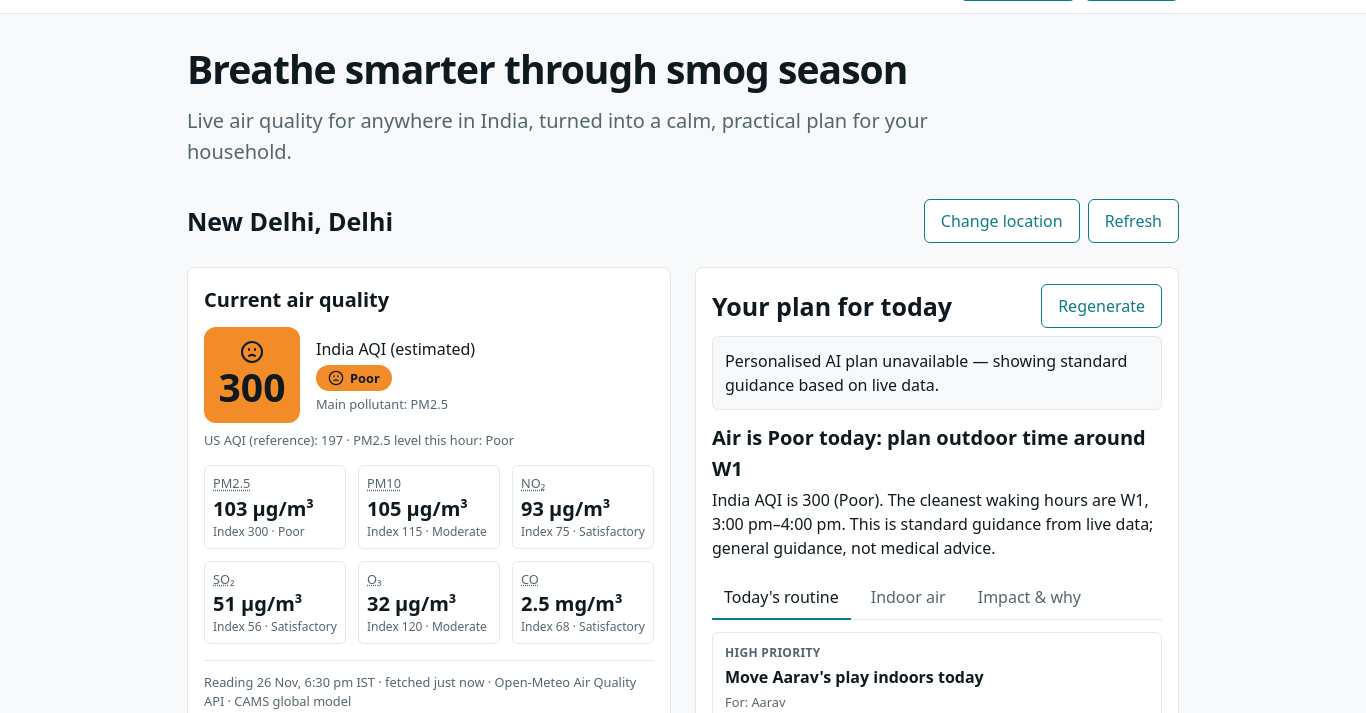
it: Dashboard failures › marks older data stale when a refresh fails
Click the button "Refresh": click(1133, 221) [1088,199,1179,243]
(page scrolled)
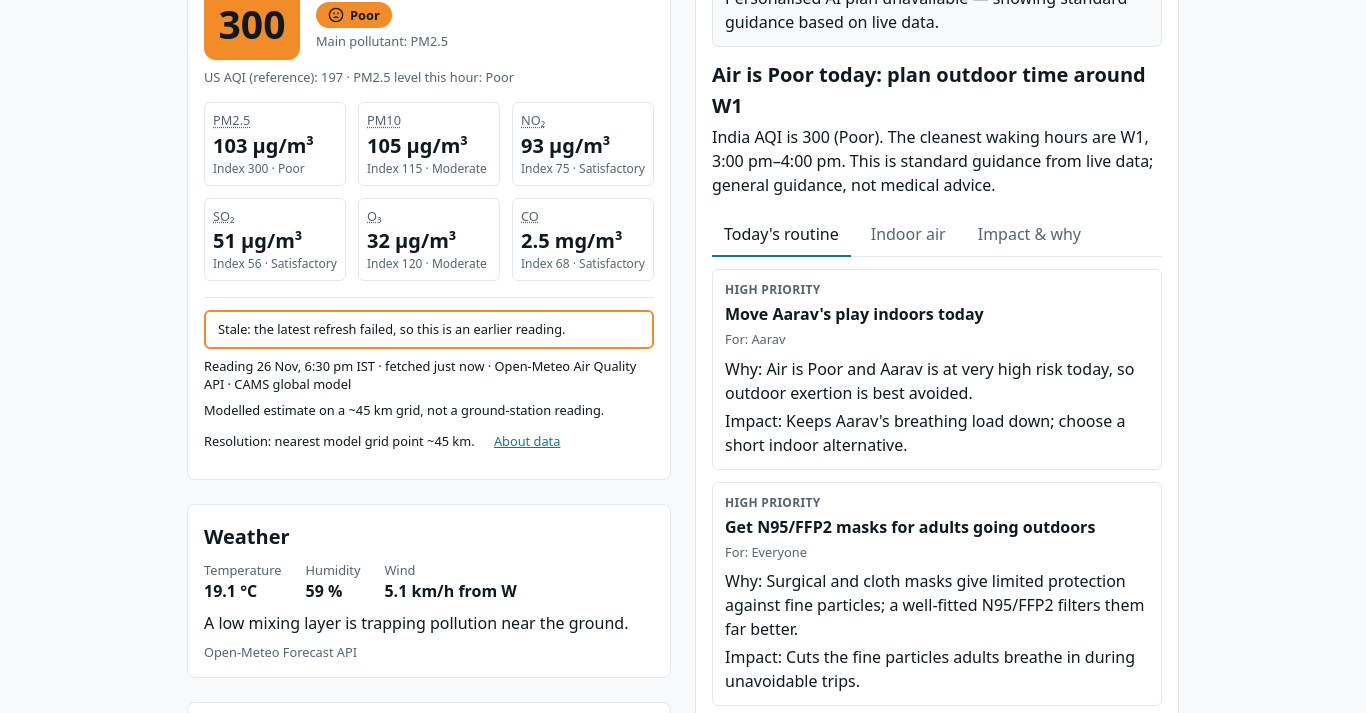
Now the text "latest refresh failed" is shown, box [254,320,565,338]
